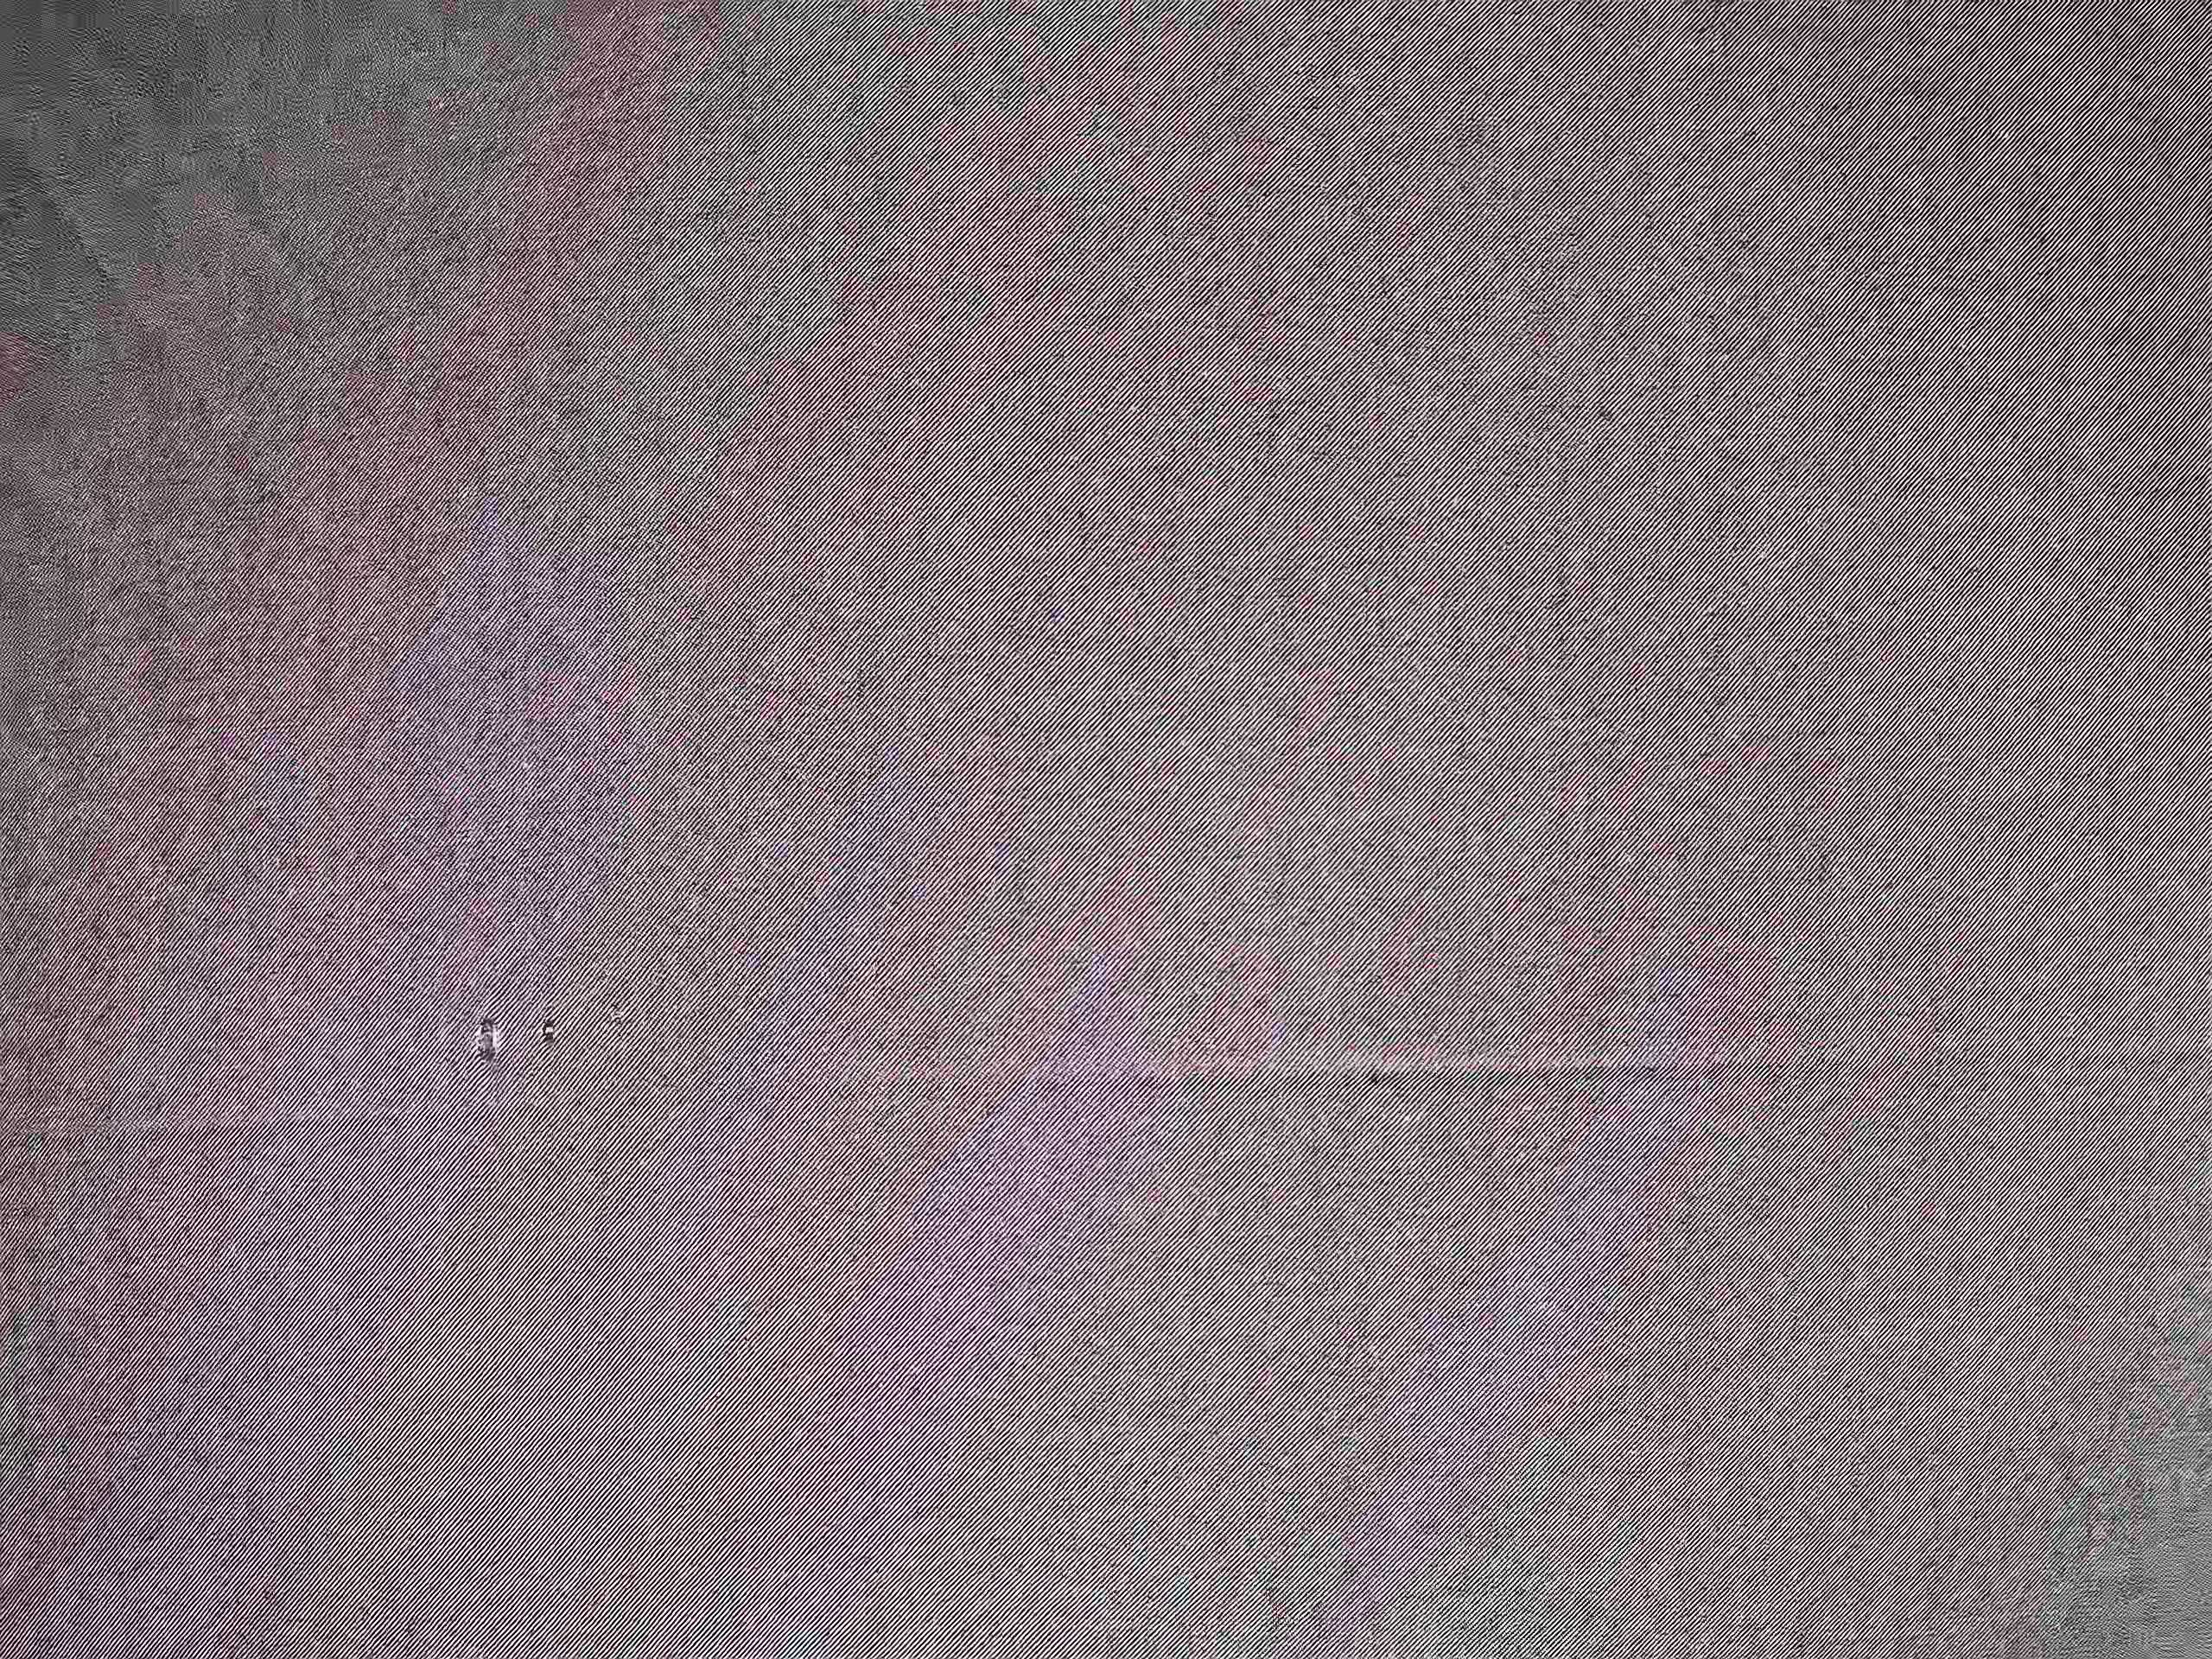rubbing-hole: (463, 1000, 577, 1082)
